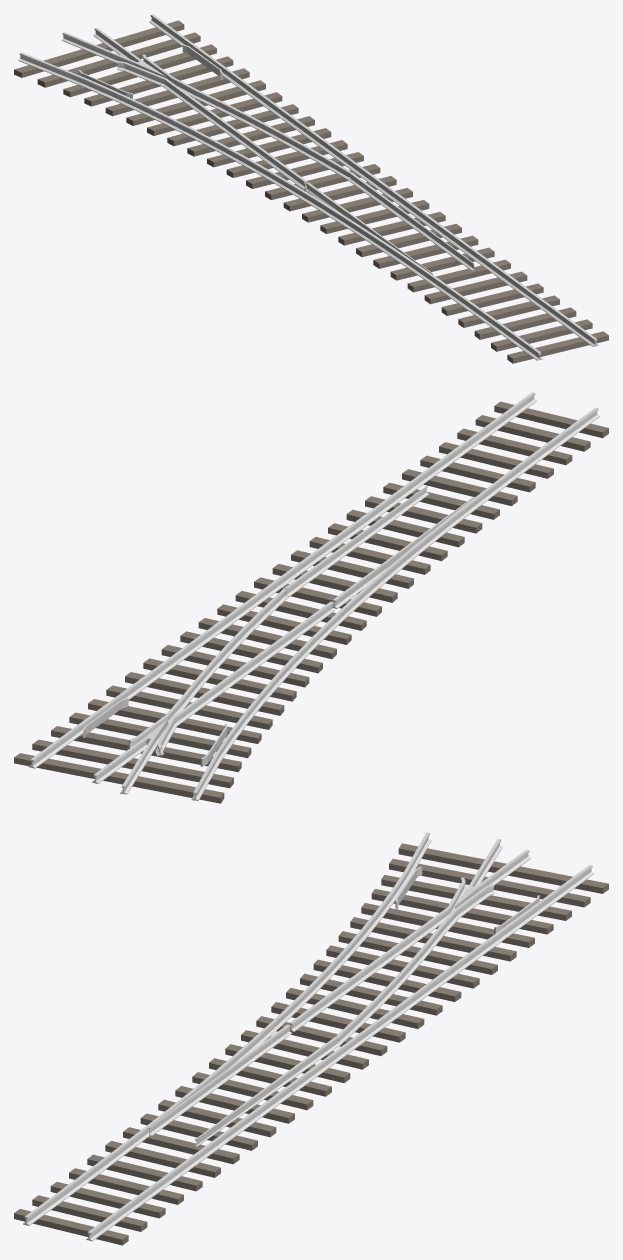
The model's file is rail_switch_left.fbx.
3 renders of one model, top to bottom at view 1: azimuth 30°, elevation 25°; view 2: azimuth 150°, elevation 25°; view 3: azimuth 330°, elevation 25°, orthographic. The views are drawn at different scales.
Visible parts, largest first — view 1: rail_switch_left; view 2: rail_switch_left; view 3: rail_switch_left.
Boxes of the visible parts, box(x1,y1,x2,y2) form: rail_switch_left: box(14, 14, 608, 363); rail_switch_left: box(14, 392, 608, 803); rail_switch_left: box(14, 832, 608, 1245).
Bounding box in the file's own units: 461 × 31 × 2056.
